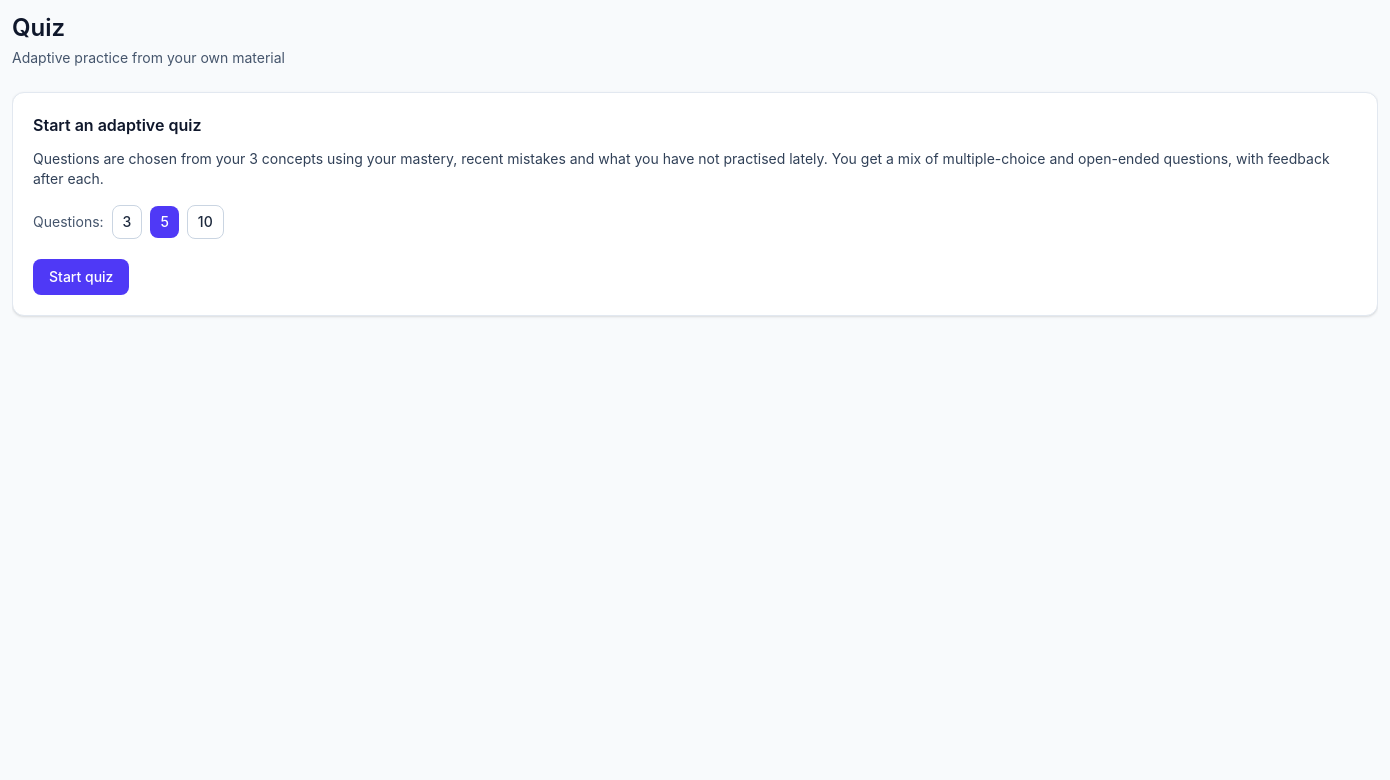
Test: QuizPage › submits the chosen option and shows the feedback
Click the button "Start quiz": (81, 277) [33,259,129,295]
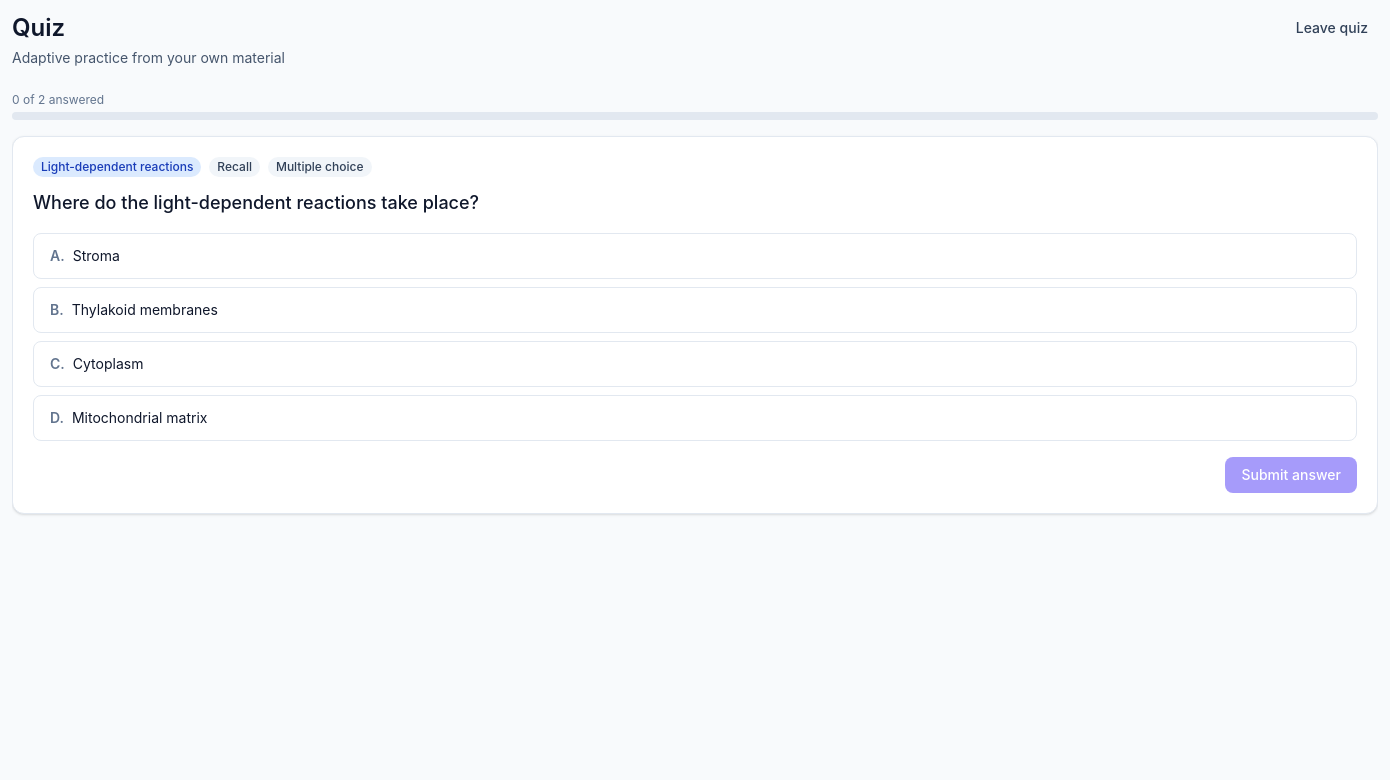
Expected: the text "Where do the light-dependent reactions take place?" is shown, [33,192,479,213]
Click the radio button labelled "B.Thylakoid membranes": (145, 310) [33,287,1357,333]
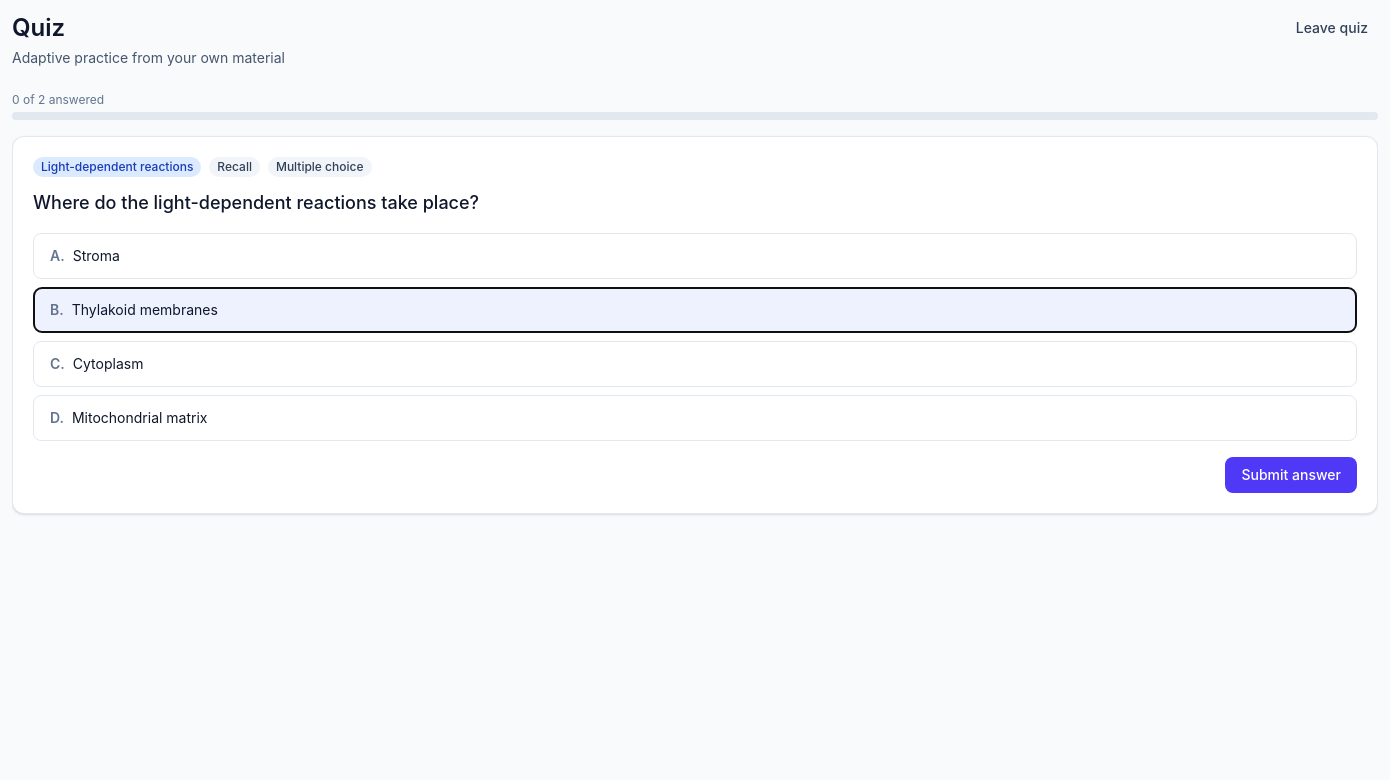
Click the button "Submit answer": (1291, 475) [1226,457,1357,493]
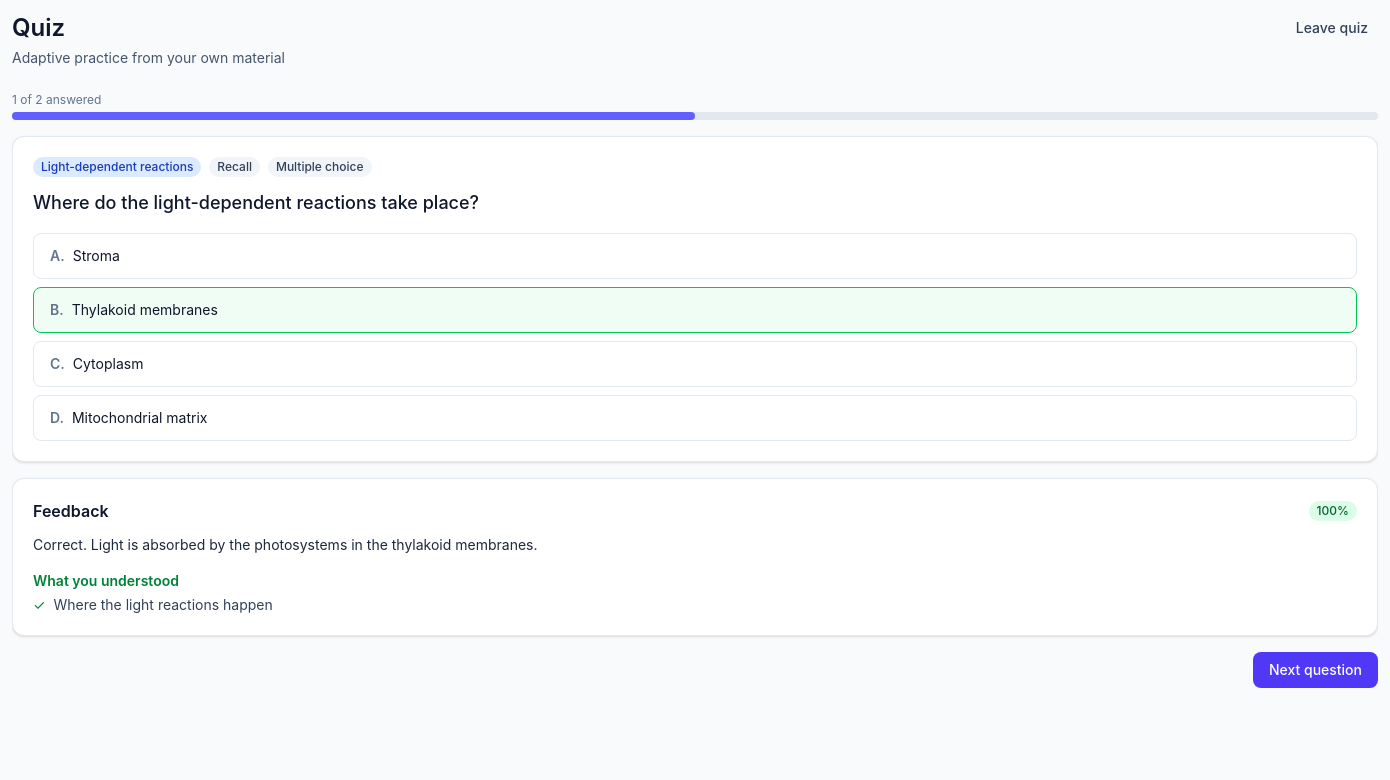
Expected: the text "Correct. Light is absorbed" is shown, [33,536,538,553]
Expected: the heading "What you understood" is shown, [33,572,179,589]
Expected: the button "Next question" is shown, [1253,652,1378,688]
